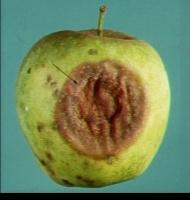rotten apple: (7, 27, 171, 189)
